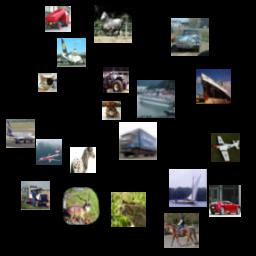airplane: (57, 38, 86, 67), (211, 133, 240, 162), (6, 119, 35, 148), (36, 139, 62, 165)
automobile: (171, 18, 209, 56), (209, 185, 241, 217)
cat: (38, 73, 57, 92)
deer: (62, 187, 100, 225)
dog: (102, 101, 121, 120)
frog: (111, 192, 146, 227)
ship: (169, 169, 207, 207), (137, 80, 175, 118), (196, 69, 231, 104)
truck: (119, 122, 157, 160), (21, 181, 50, 210), (45, 6, 71, 32), (103, 67, 129, 93)
